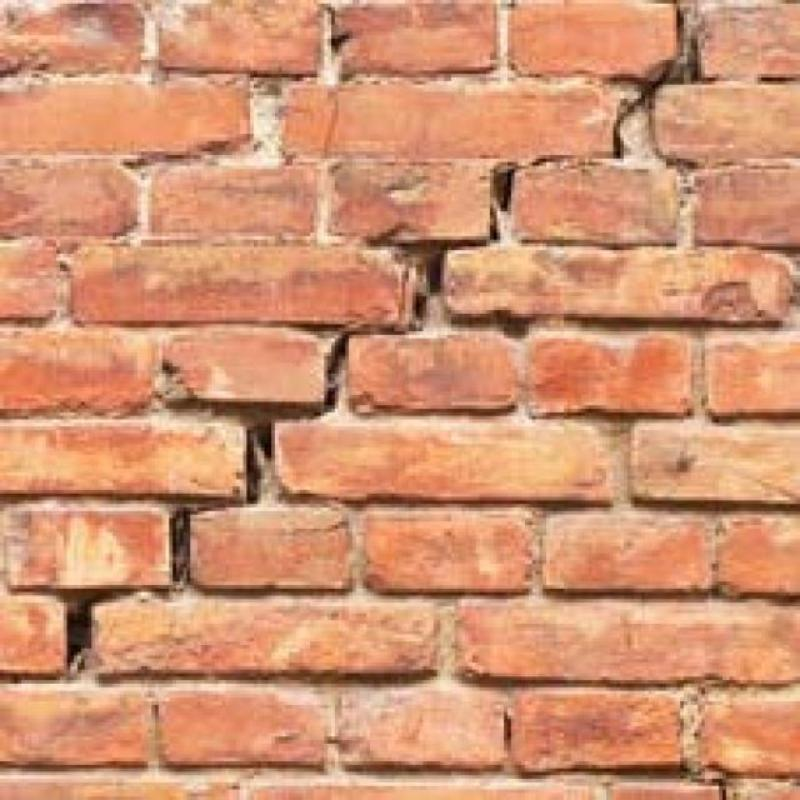crack: (61, 327, 401, 682), (411, 156, 611, 324), (611, 0, 700, 159), (320, 88, 340, 159), (696, 776, 726, 799)
